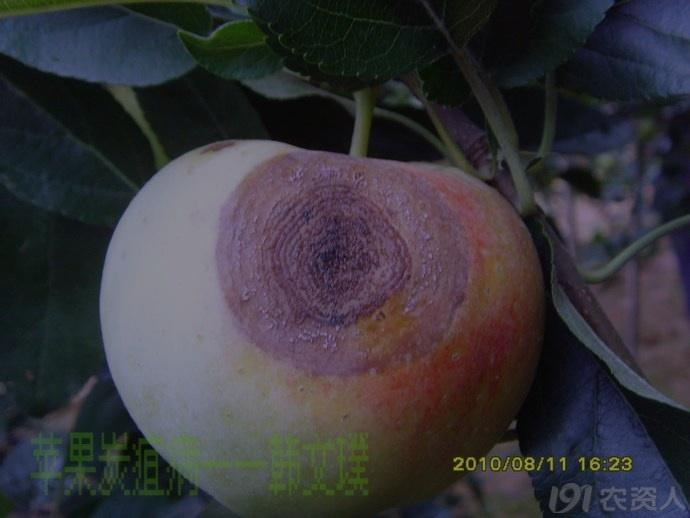rotten apple: (89, 134, 551, 509)
